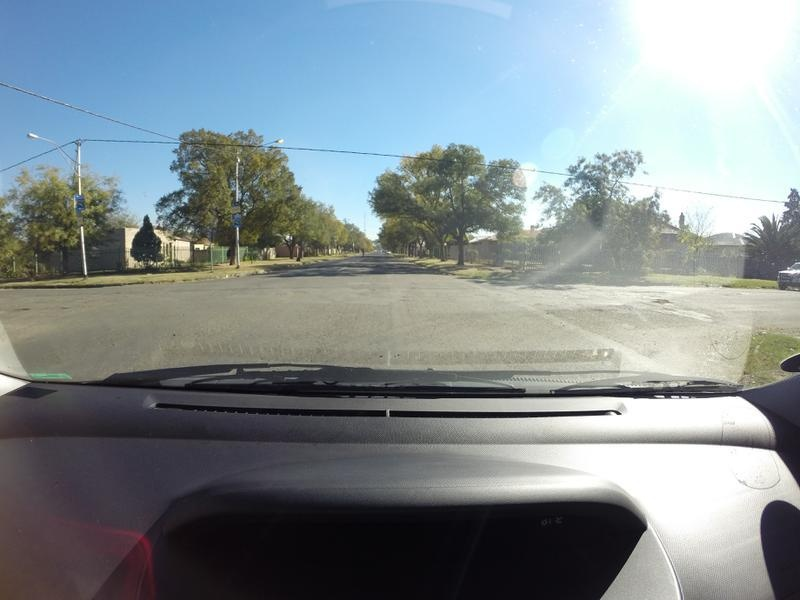pothole: (641, 295, 673, 312)
